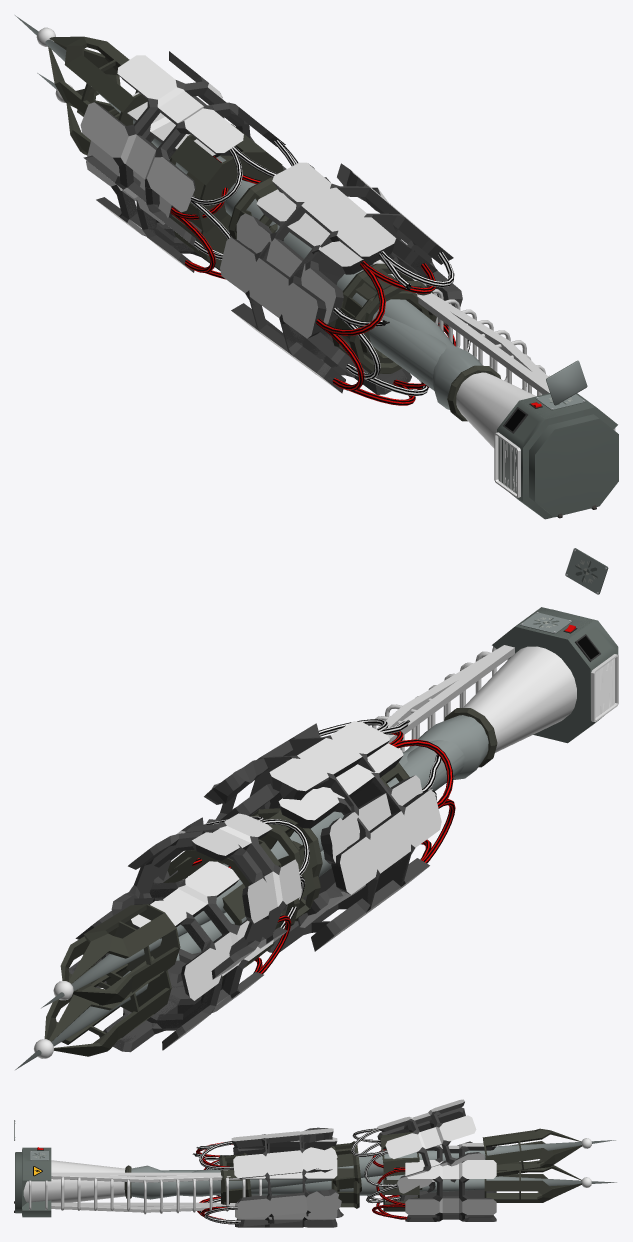
The model's file is StructureRadioTower.fbx.
3 views of the same model, one above another, from view 1: azimuth 30°, elevation 25°; view 2: azimuth 150°, elevation 25°; view 3: azimuth 270°, elevation 25° (orthographic). The views are drawn at different scales.
Visible parts, largest first — view 1: BrokenState1, BuildState3MainBody, BuildState4MainBody, BuildState1MainBody, BuildState4Cabling, BuildState3Ladder, BuildState3Vent; view 2: BrokenState1, BuildState3MainBody, BuildState4MainBody, BuildState1MainBody, BuildState4Cabling, BuildState3Ladder, BuildState3Vent, BuildState4Ladder, BuildState4Vent; view 3: BrokenState1, BuildState4MainBody, BuildState1MainBody, BuildState1Ladder, BuildState4Cabling, BuildState2MainBody, BuildState3MainBody, BuildState3Ladder.
Part boxes in pixels (x1,y1,x2,y2): BrokenState1: (15,15,617,496); BuildState3MainBody: (37,73,618,518); BuildState4MainBody: (43,76,618,519); BuildState1MainBody: (339,274,618,517); BuildState4Cabling: (170,156,455,405); BuildState3Ladder: (417,293,614,429); BuildState3Vent: (494,432,520,497); BrokenState1: (41,548,617,1008); BuildState3MainBody: (15,609,618,1069); BuildState4MainBody: (18,610,618,1067); BuildState1MainBody: (318,607,597,876); BuildState4Cabling: (192,731,455,973); BuildState3Ladder: (388,647,514,751); BuildState3Vent: (591,654,618,721); BuildState4Ladder: (387,645,514,748); BuildState4Vent: (591,654,617,721); BrokenState1: (14,1099,615,1226); BuildState4MainBody: (15,1141,599,1227); BuildState1MainBody: (15,1151,323,1217); BuildState1Ladder: (51,1172,261,1209); BuildState4Cabling: (196,1142,407,1224); BuildState2MainBody: (15,1154,616,1203); BuildState3MainBody: (15,1137,610,1226); BuildState3Ladder: (51,1176,230,1204).
Size of the model in its own units: 524 by 561 by 2749.
